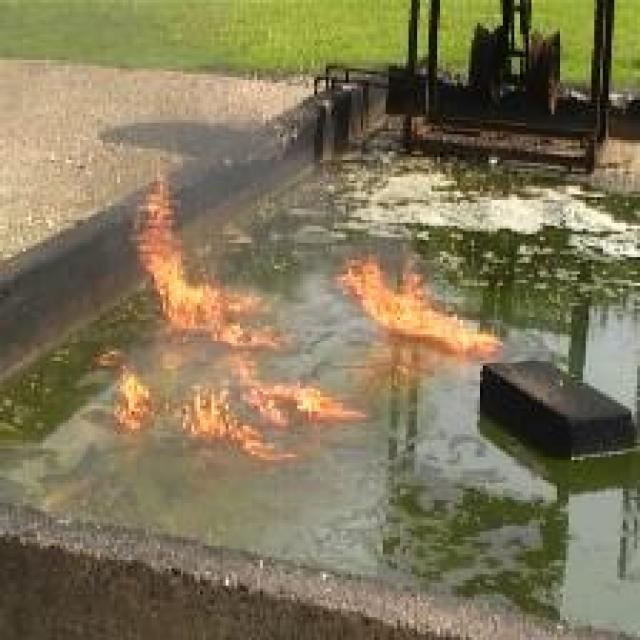Fire: (128, 173, 286, 350), (340, 257, 506, 354), (227, 356, 370, 428), (172, 383, 298, 463), (100, 348, 151, 428)
